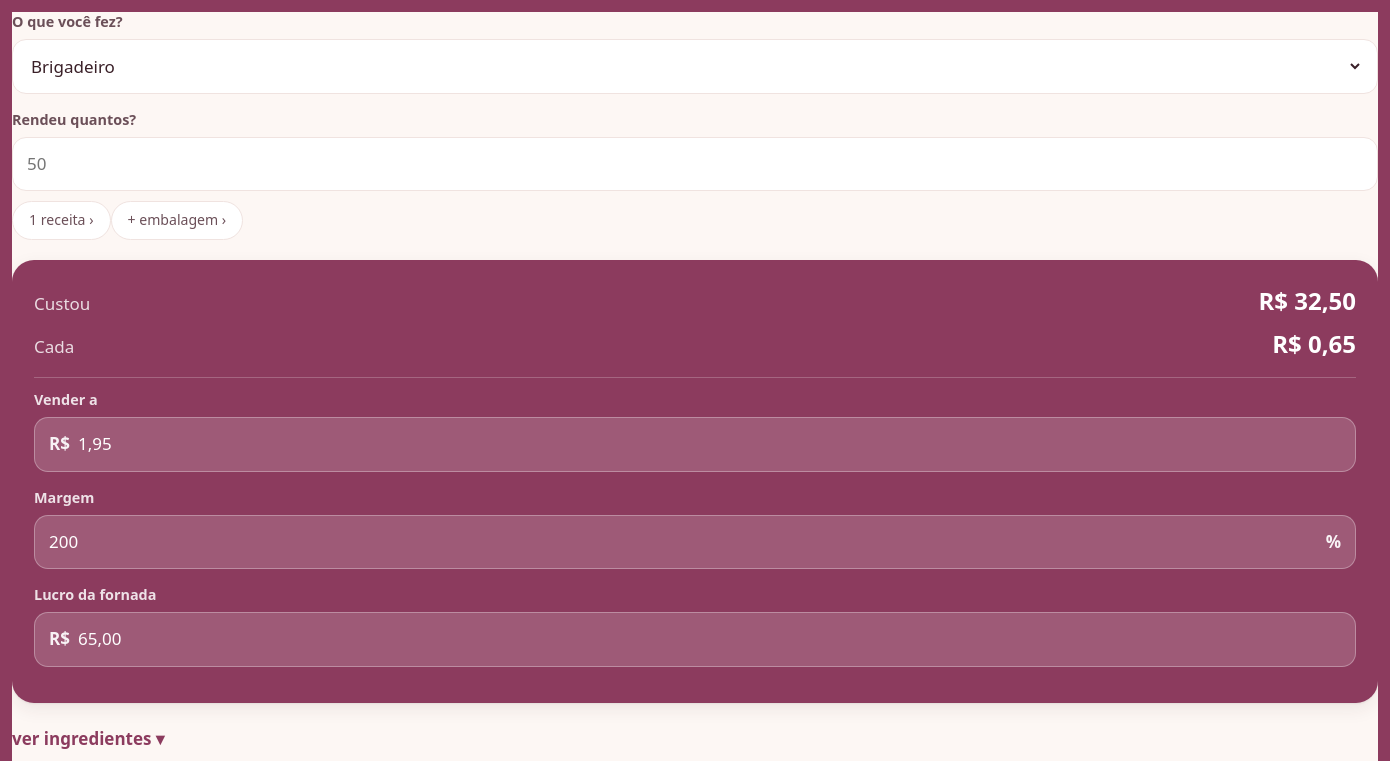
Test case: Calculadora › "+ embalagem" abre outra linha, para forminha e caixa na mesma produção
This screenshot has width=1390, height=761.
Click the button with test id "embalagem-chip" at (177, 221), box x1=110 y1=201 x2=243 y2=240
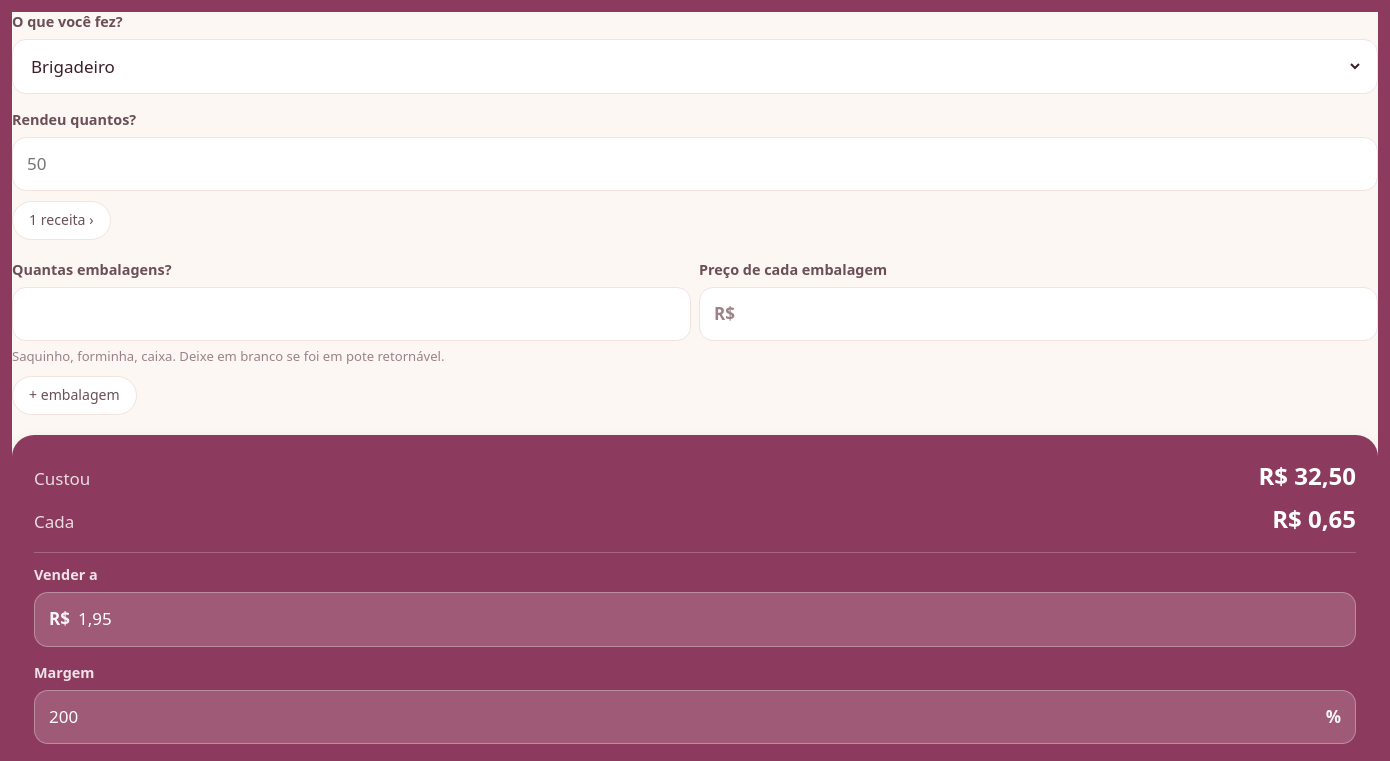
Type "65" into the field labelled "Quantas embalagens?" at (352, 314), box x1=27 y1=288 x2=676 y2=340
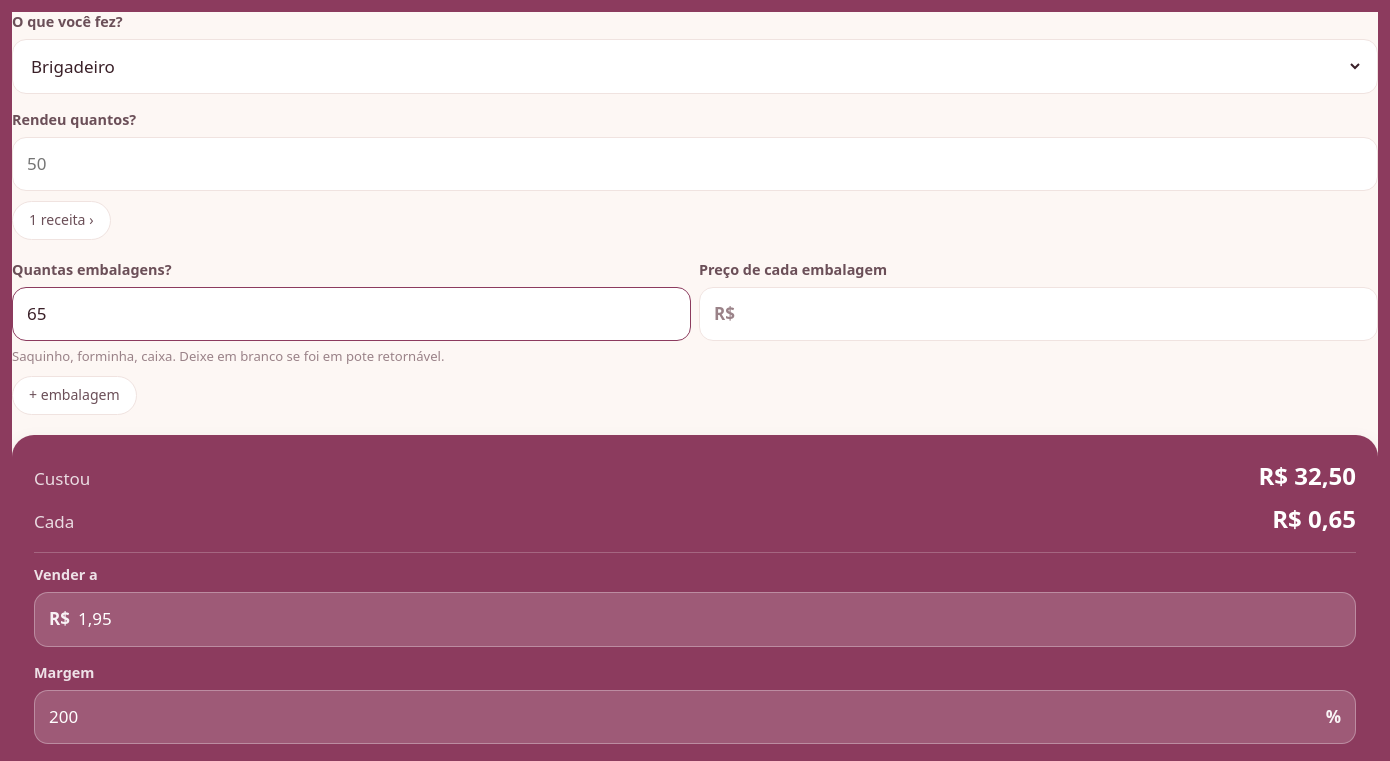
Type "0,05" into the field labelled "Preço de cada embalagem" at (1053, 314), box x1=743 y1=288 x2=1363 y2=340
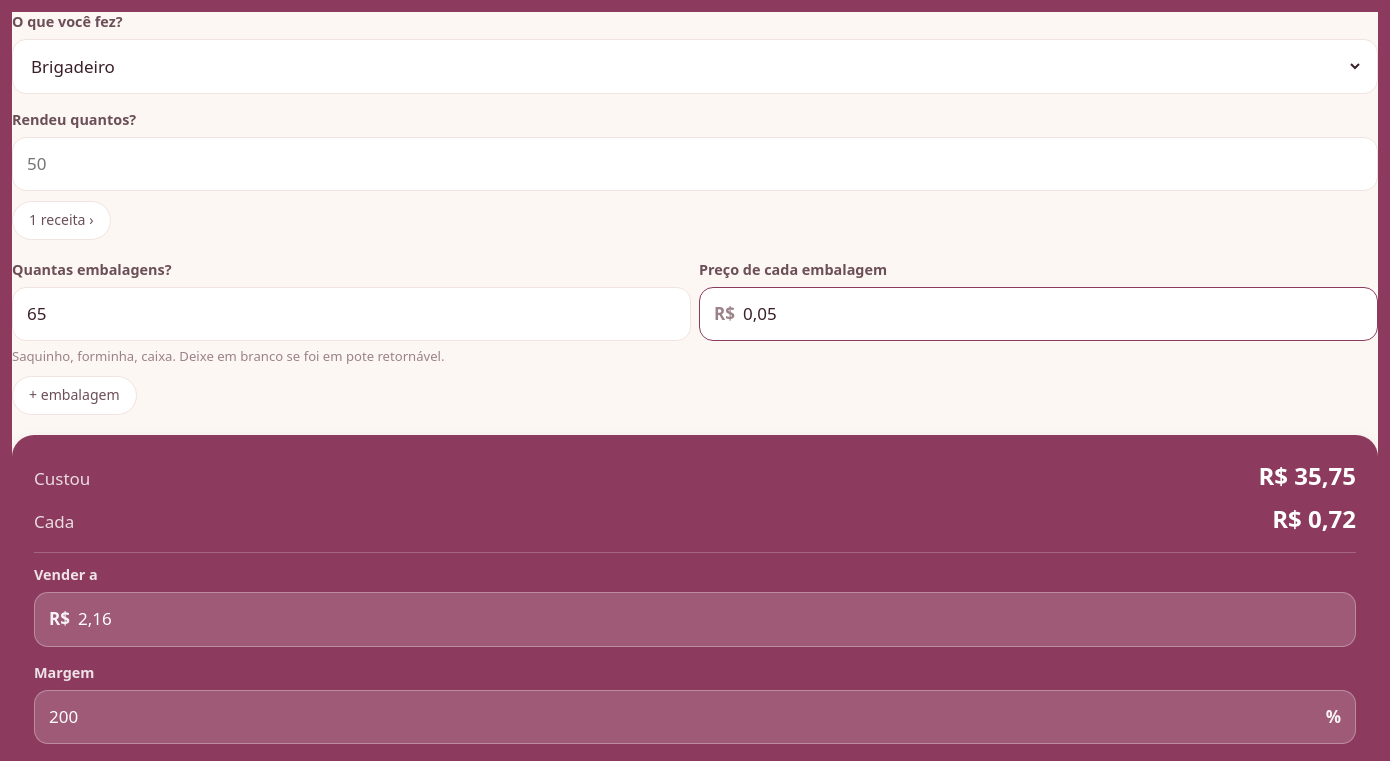
Click the button "+ embalagem" at (74, 396), box x1=12 y1=376 x2=137 y2=415
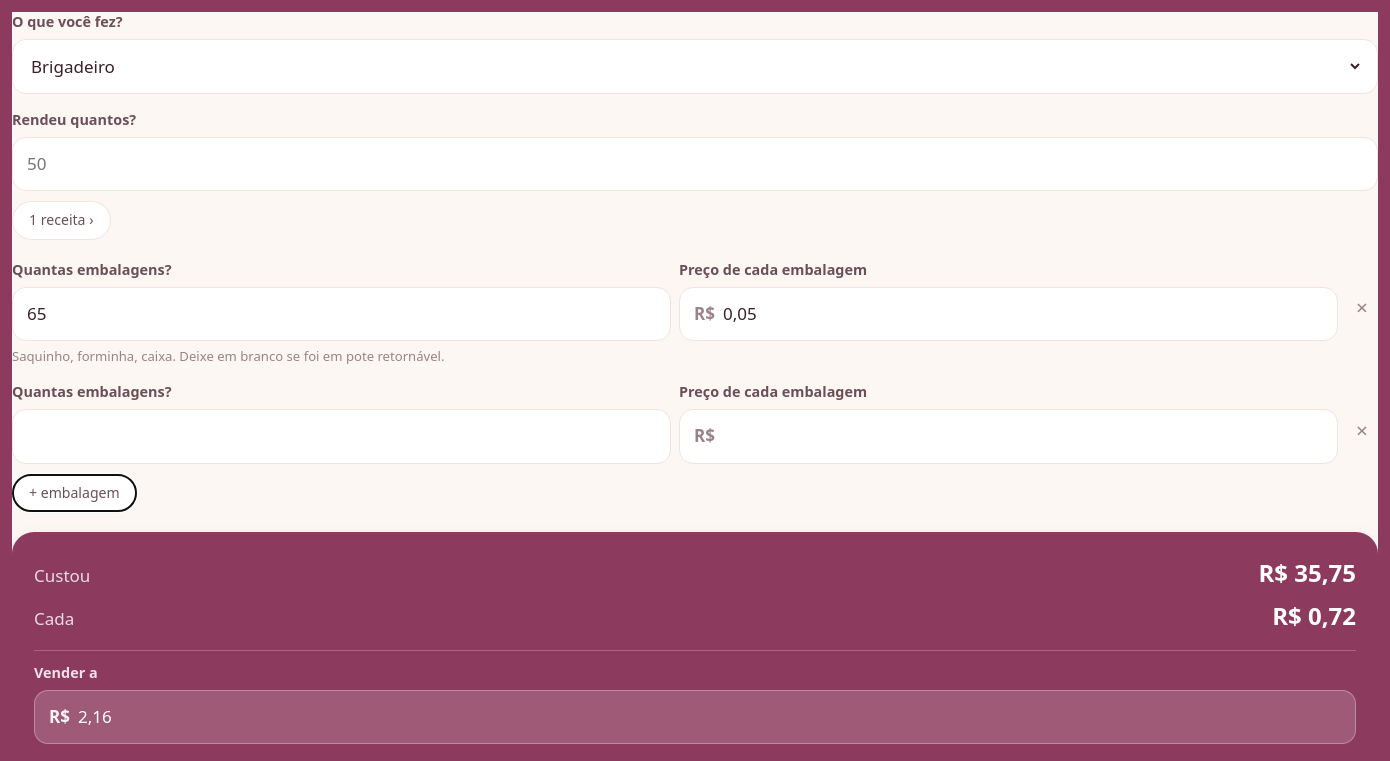
Now the number of fields labelled "Quantas embalagens?" is 2
Type "1" into the 2nd field labelled "Quantas embalagens?" at (342, 436), box x1=27 y1=410 x2=656 y2=463
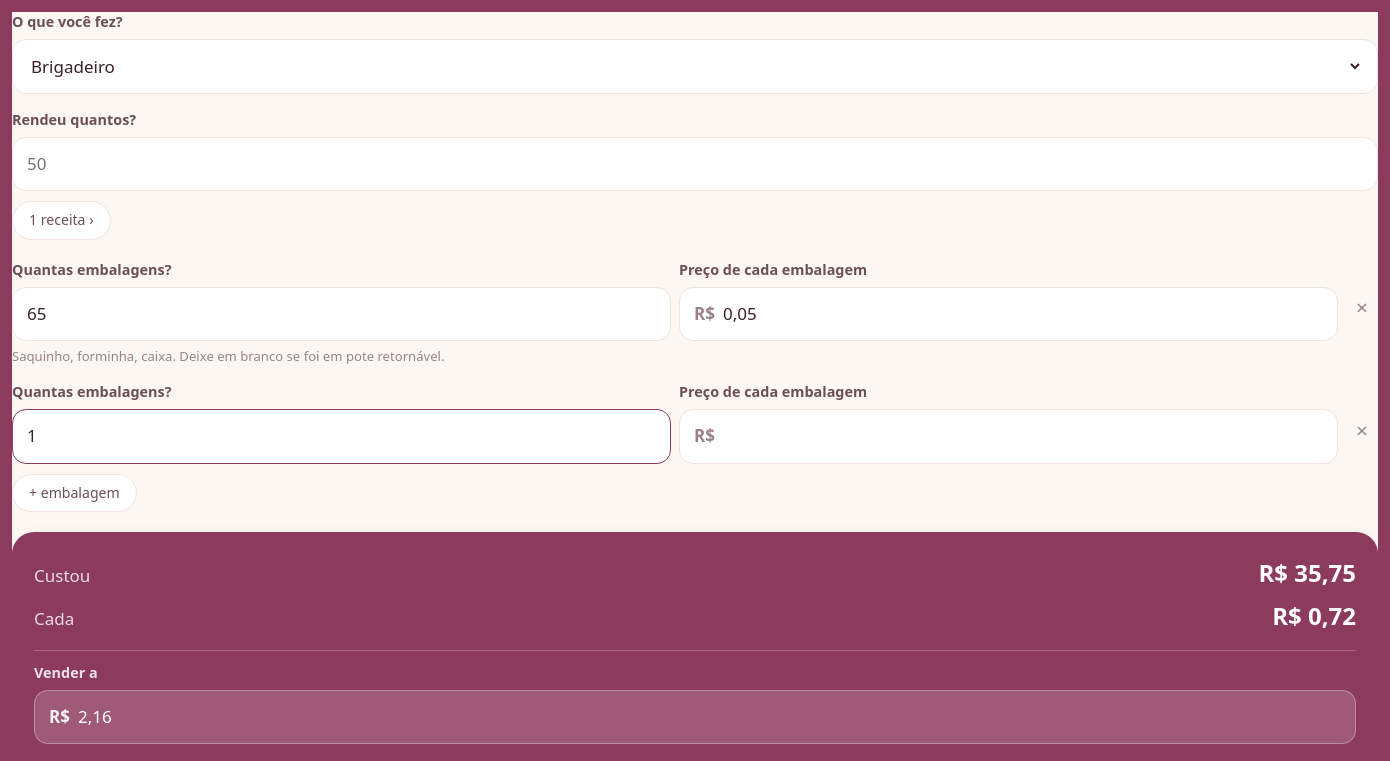
Type "2,50" into the 2nd field labelled "Preço de cada embalagem" at (1023, 436), box x1=723 y1=410 x2=1323 y2=463
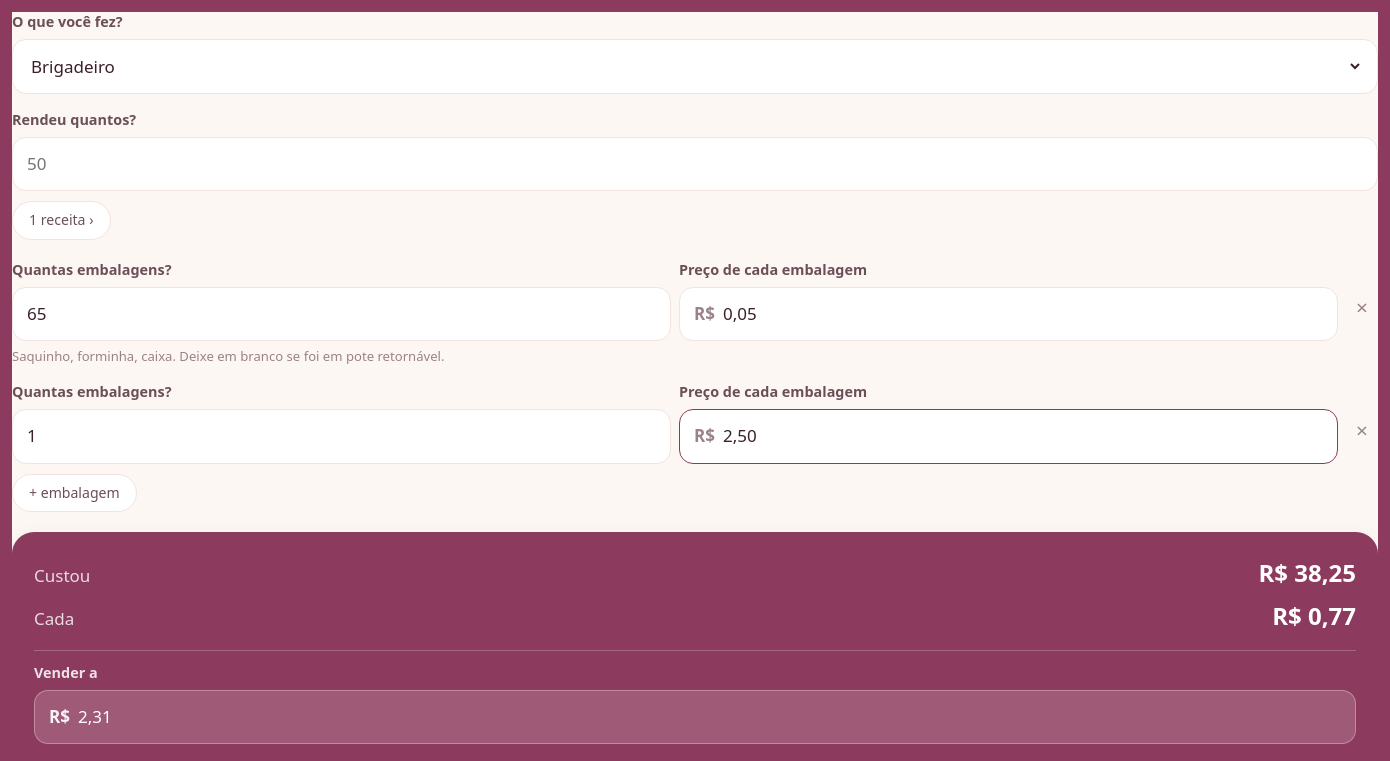
Now the text with test id "custo-total" reads "R$ 38,25", box x1=1258 y1=556 x2=1356 y2=589
